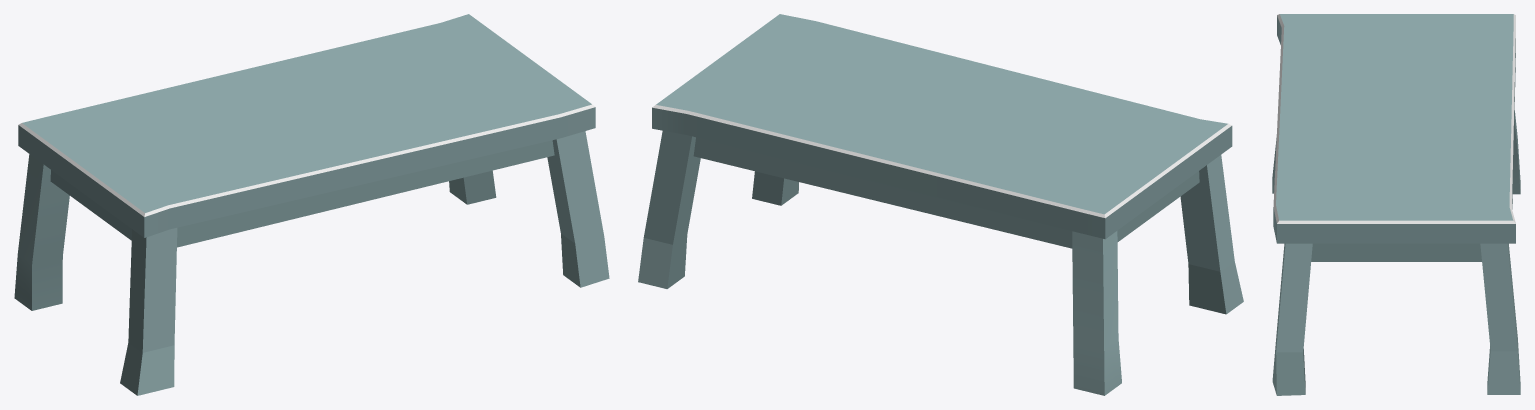
Rendered from Table_stone.fbx.
3 views of the same model, side by side, from view 1: azimuth 30°, elevation 25°; view 2: azimuth 150°, elevation 25°; view 3: azimuth 270°, elevation 25° (orthographic). The views are drawn at different scales.
Parts seen in each view (by area): view 1: SM_Prop_Stone; view 2: SM_Prop_Stone; view 3: SM_Prop_Stone.
Part boxes in pixels (x1,y1,x2,y2): SM_Prop_Stone: [14, 14, 609, 395]; SM_Prop_Stone: [638, 14, 1243, 395]; SM_Prop_Stone: [1272, 14, 1520, 395].
Size of the model in its own units: 2.9 by 1.04 by 1.39.
Materials: 1 (1 with a texture image).
